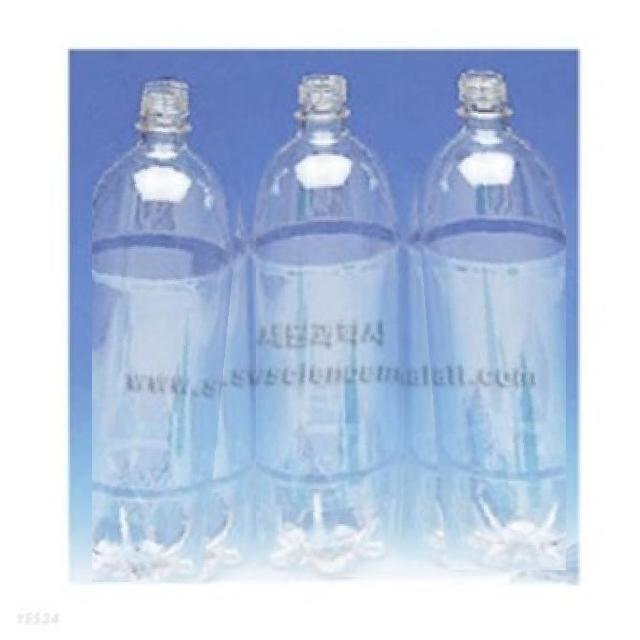plastic bottle: (406, 68, 566, 570), (92, 81, 250, 582), (256, 75, 407, 580)
